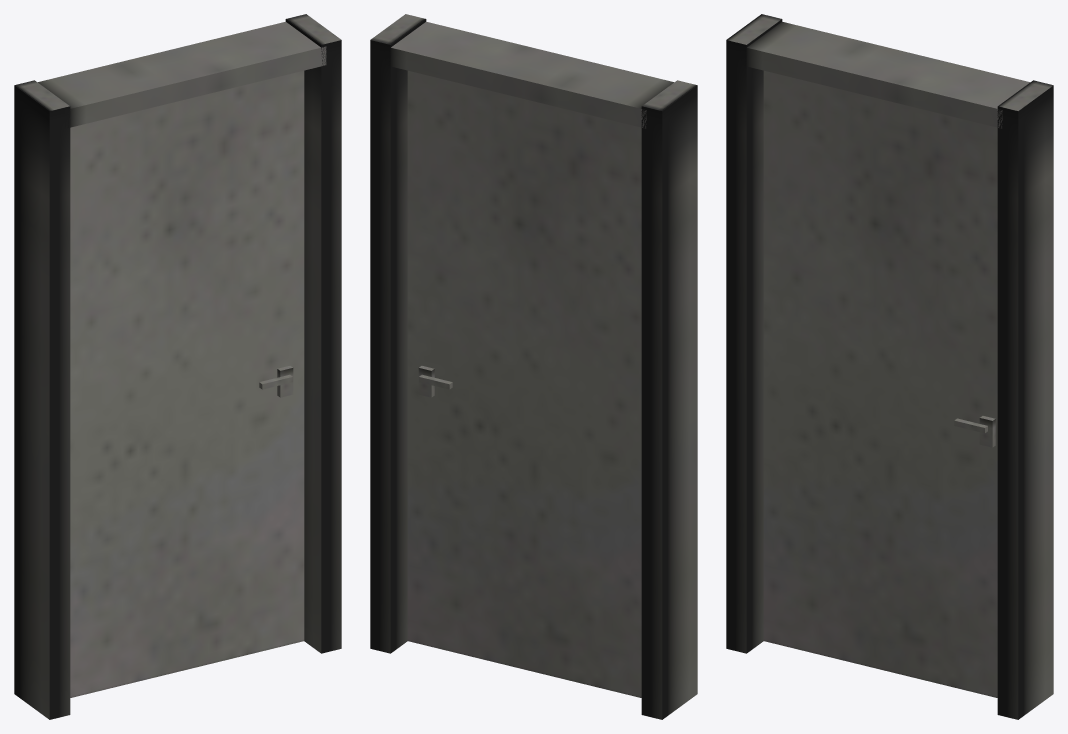
File: door_front.fbx
3 renders of one model, left to right at view 1: azimuth 30°, elevation 25°; view 2: azimuth 150°, elevation 25°; view 3: azimuth 330°, elevation 25°, orthographic.
Visible parts, largest first — view 1: door_front_leaf, door_front, door_front_casing_r, door_front_casing_top; view 2: door_front_leaf, door_front, door_front_casing_r, door_front_casing_top; view 3: door_front_leaf, door_front_casing_r, door_front, door_front_casing_top.
Part boxes in pixels (bbox=[...]): door_front_leaf: bbox=[70, 70, 304, 697]; door_front: bbox=[14, 80, 70, 719]; door_front_casing_r: bbox=[285, 14, 341, 653]; door_front_casing_top: bbox=[38, 21, 326, 128]; door_front_leaf: bbox=[407, 70, 641, 697]; door_front: bbox=[641, 80, 697, 719]; door_front_casing_r: bbox=[370, 14, 426, 653]; door_front_casing_top: bbox=[385, 21, 673, 128]; door_front_leaf: bbox=[763, 70, 997, 697]; door_front_casing_r: bbox=[997, 80, 1053, 719]; door_front: bbox=[726, 14, 782, 653]; door_front_casing_top: bbox=[741, 21, 1029, 128].
Size of the model in its own units: 1.14 by 2.27 by 0.24.
